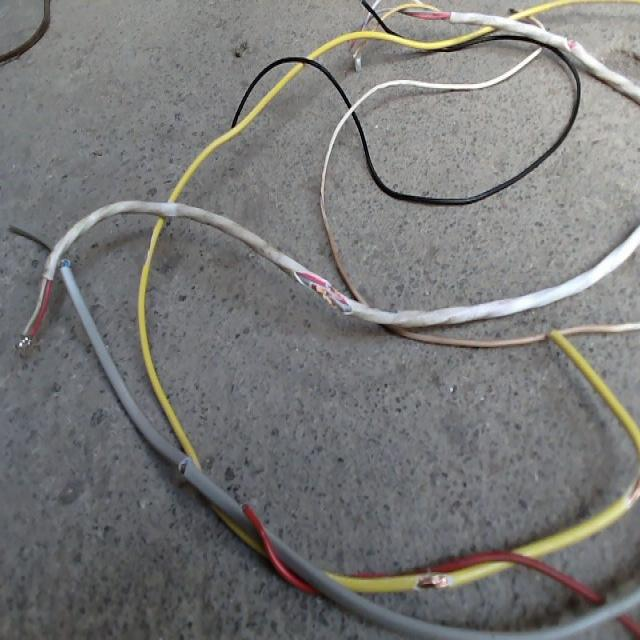-: (292, 267, 355, 317), (413, 572, 450, 592), (626, 472, 639, 508), (176, 455, 192, 477), (55, 254, 69, 270)
